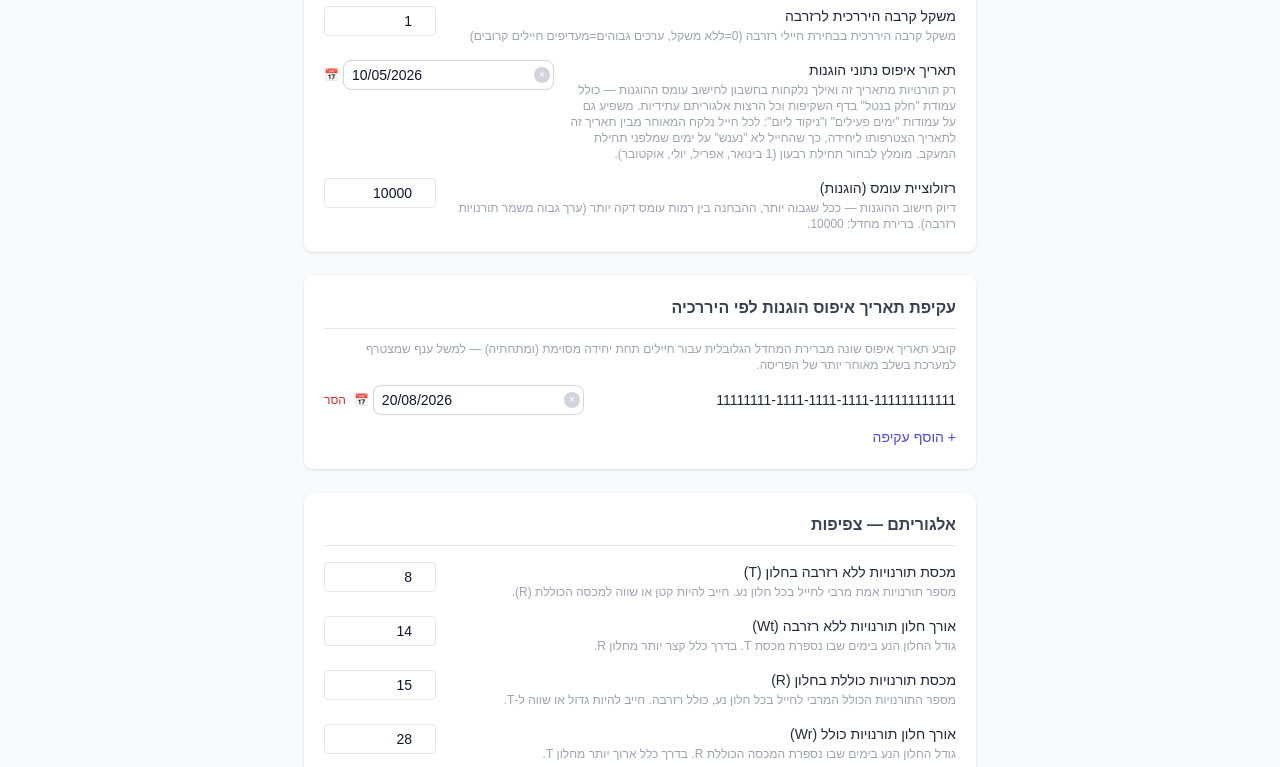
it: SystemSettingsContent reset-date overrides › seeds a newly-added override row with the global default date, not blank
(page scrolled)
Check: the field showing "20/08/2026" next to "11111111-1111-1111-1111-111111111111" is shown, box [373,385,584,415]
Click the button "+ הוסף עקיפה".
click(914, 437)  # box [873,427,956,447]
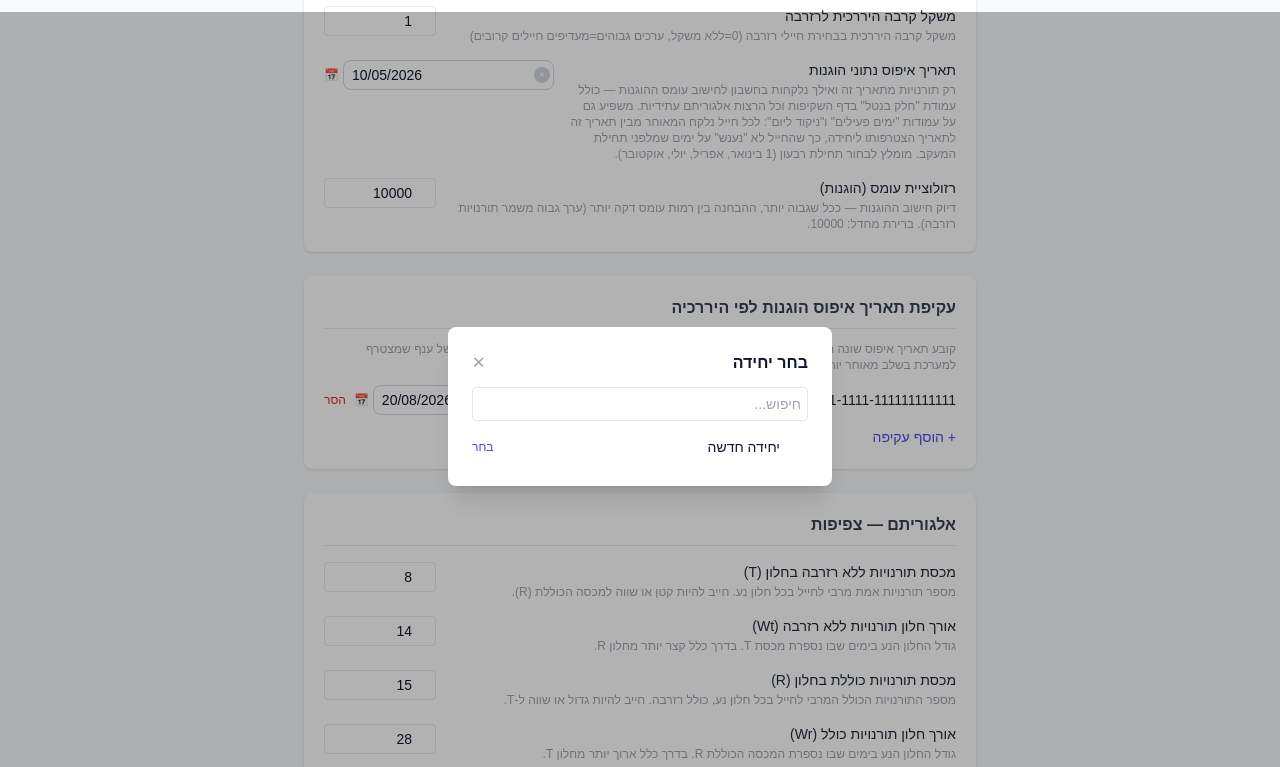
Check: the text "יחידה חדשה" is shown, box [708,436,780,456]
Click the button "בחר".
click(483, 446)  # box [472,438,494,454]
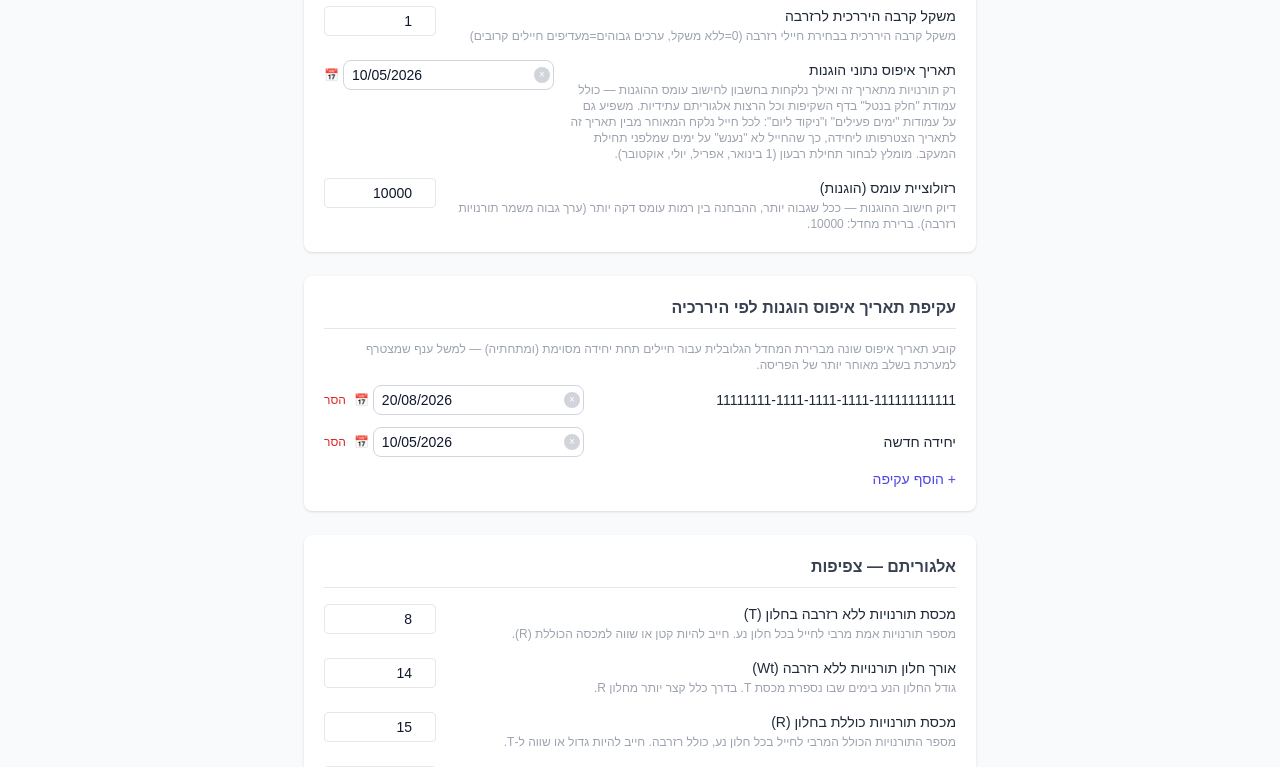
Check: the text "יחידה חדשה" is shown, box [884,434,956,450]
Check: the field with placeholder "dd/mm/yyyy" in the row of "יחידה חדשה" holds "10/05/2026", box [373,427,584,457]
